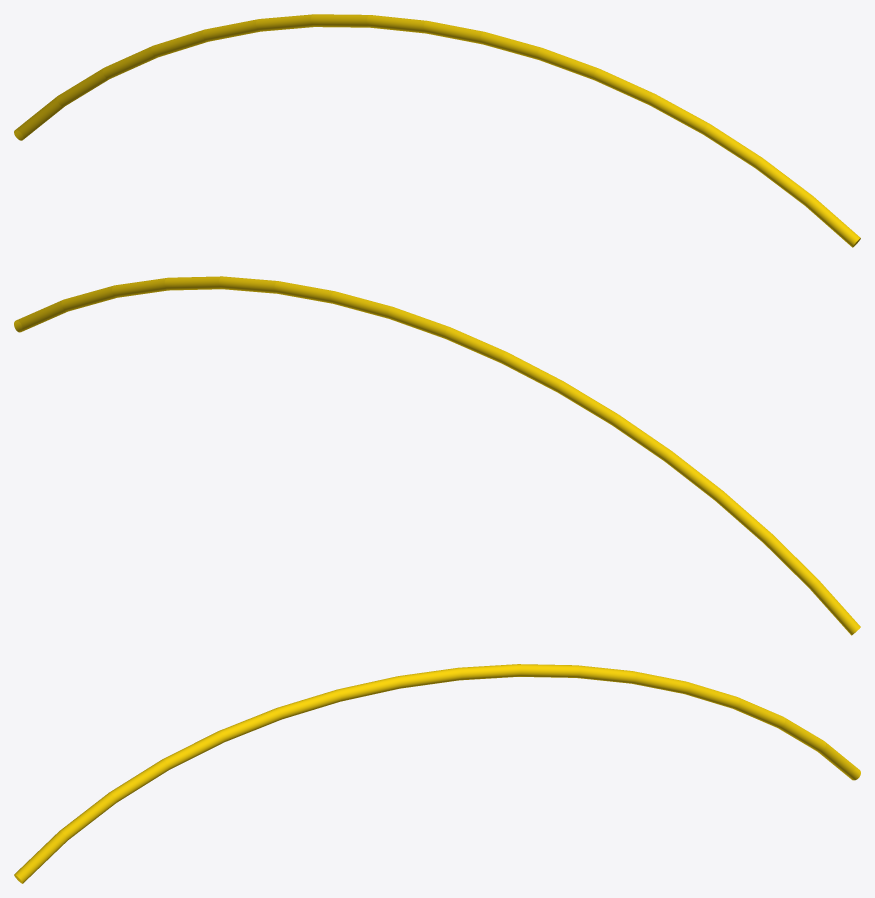
File: Event_421127236_track_35.fbx
3 views of the same model, one above another, from view 1: azimuth 30°, elevation 25°; view 2: azimuth 210°, elevation 25°; view 3: azimuth 270°, elevation 25° (orthographic).
Parts seen in each view (by area): view 1: Model; view 2: Model; view 3: Model.
Part boxes in pixels (x1,y1,x2,y2): Model: [14, 14, 860, 247]; Model: [14, 276, 860, 635]; Model: [14, 664, 860, 883].
Bounding box in the file's own units: 1.54 × 0.7499 × 2.66.
